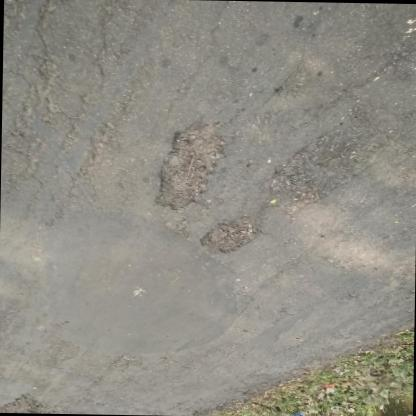pothole: (266, 132, 379, 216), (155, 118, 227, 214), (197, 210, 264, 256), (0, 392, 62, 413)
